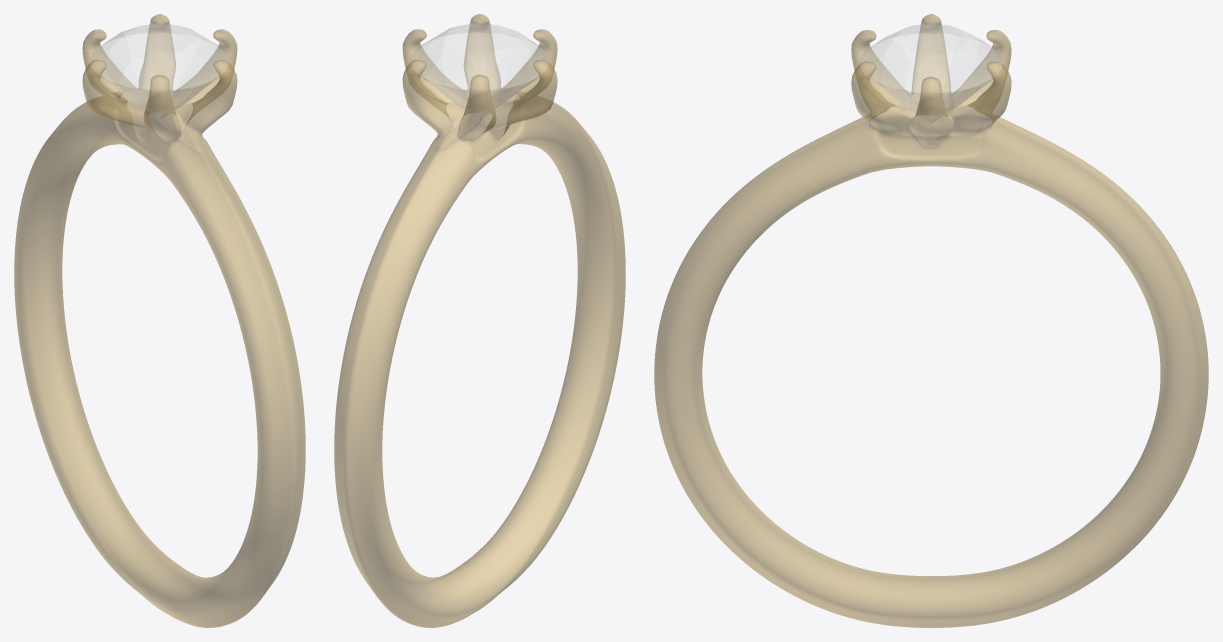
3 views of the same model, side by side, from view 1: azimuth 30°, elevation 25°; view 2: azimuth 150°, elevation 25°; view 3: azimuth 270°, elevation 25° (orthographic). The views are drawn at different scales.
Visible parts, largest first — view 1: Ring, Diamond; view 2: Ring, Diamond; view 3: Ring, Diamond.
Boxes of the visible parts, x1,y1,x2,y2 form: Ring: [14, 14, 305, 627]; Diamond: [91, 24, 228, 119]; Ring: [334, 14, 625, 627]; Diamond: [411, 24, 548, 119]; Ring: [654, 14, 1208, 627]; Diamond: [860, 24, 1002, 122].
Size of the model in its own units: 0.7778 by 2.78 by 2.38.
